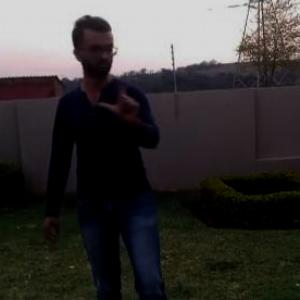land_hand: (94, 66, 148, 132)
